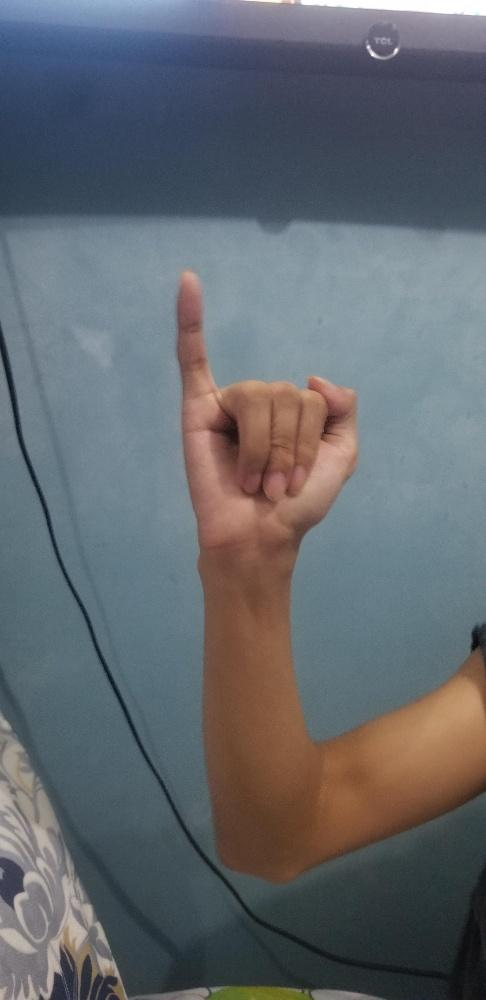i: (174, 263, 360, 536)
